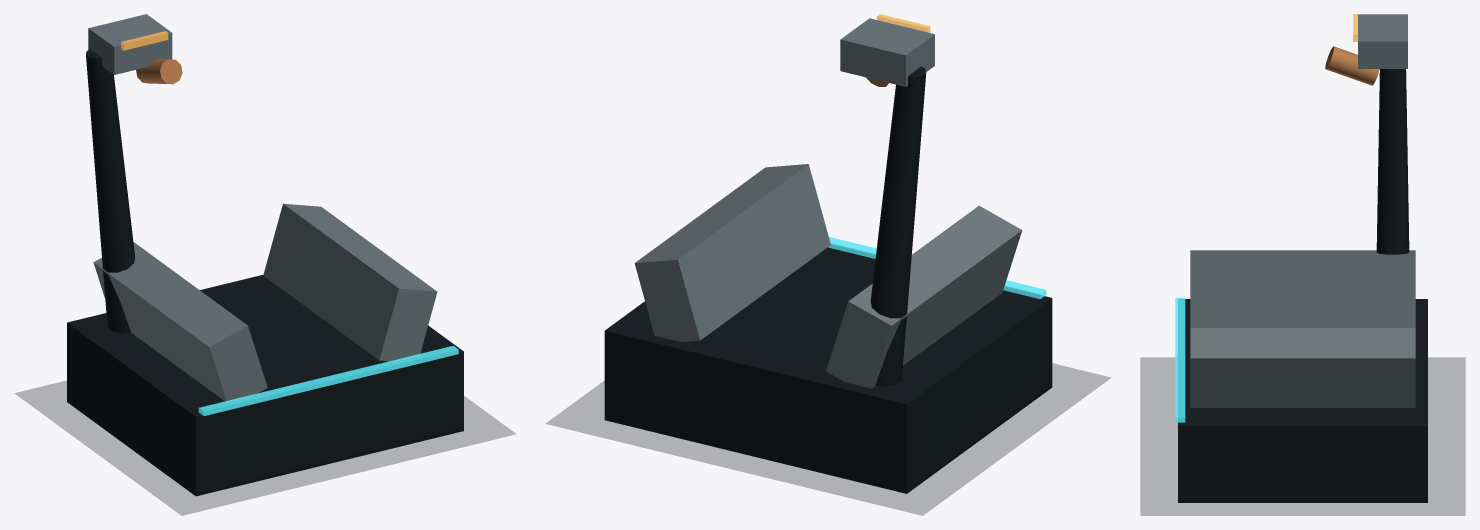
Rendered from hp_room_cyber_drone_cradle.glb.
3 renders of one model, left to right at view 1: azimuth 30°, elevation 25°; view 2: azimuth 150°, elevation 25°; view 3: azimuth 270°, elevation 25°, orthographic. The views are drawn at different scales.
Visible parts, largest first — view 1: cradle_base, saddle_right, saddle_left, contact_shadow, charge_mast, charge_head, bay_cyan_rim, charge_coupler; view 2: cradle_base, saddle_right, contact_shadow, saddle_left, charge_mast, charge_head, bay_cyan_rim; view 3: cradle_base, saddle_right, saddle_left, contact_shadow, charge_mast, charge_head, bay_cyan_rim, charge_coupler.
Part boxes in pixels (box(x1,y1,x2,y2)): cradle_base: box(67, 275, 463, 496); saddle_right: box(263, 203, 437, 361); saddle_left: box(93, 242, 267, 402); contact_shadow: box(15, 380, 515, 515); charge_mast: box(86, 49, 134, 333); charge_head: box(88, 14, 172, 74); bay_cyan_rim: box(198, 345, 458, 415); charge_coupler: box(136, 58, 182, 84); cradle_base: box(604, 245, 1052, 493); saddle_right: box(634, 164, 830, 342); contact_shadow: box(546, 363, 1110, 515); saddle_left: box(826, 205, 1022, 388); charge_mast: box(870, 66, 926, 386); charge_head: box(840, 18, 934, 86); bay_cyan_rim: box(828, 237, 1046, 299); cradle_base: box(1178, 299, 1427, 502); saddle_right: box(1190, 328, 1415, 407); saddle_left: box(1190, 250, 1415, 327); contact_shadow: box(1140, 357, 1465, 515); charge_mast: box(1376, 69, 1409, 254); charge_head: box(1358, 14, 1407, 68); bay_cyan_rim: box(1175, 297, 1185, 422); charge_coupler: box(1325, 46, 1379, 85).
Size of the model in its own units: 1.5 by 1.64 by 1.3.
